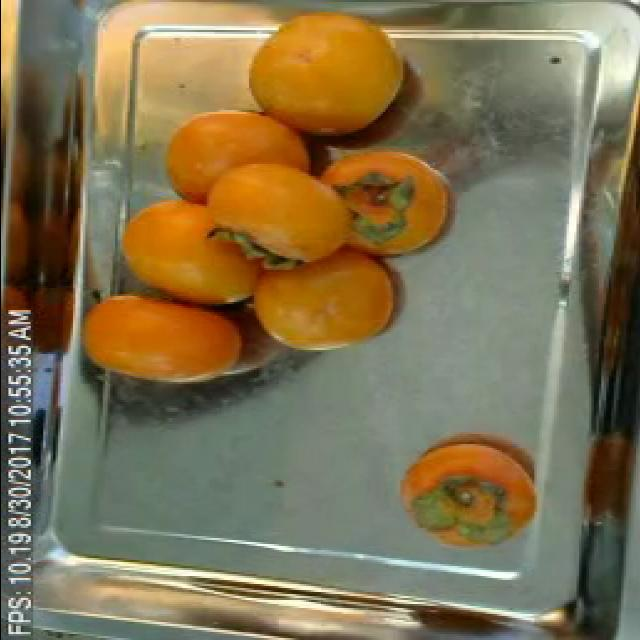Fruit: (233, 2, 419, 150), (382, 412, 558, 564), (62, 290, 263, 404), (563, 422, 640, 540)
